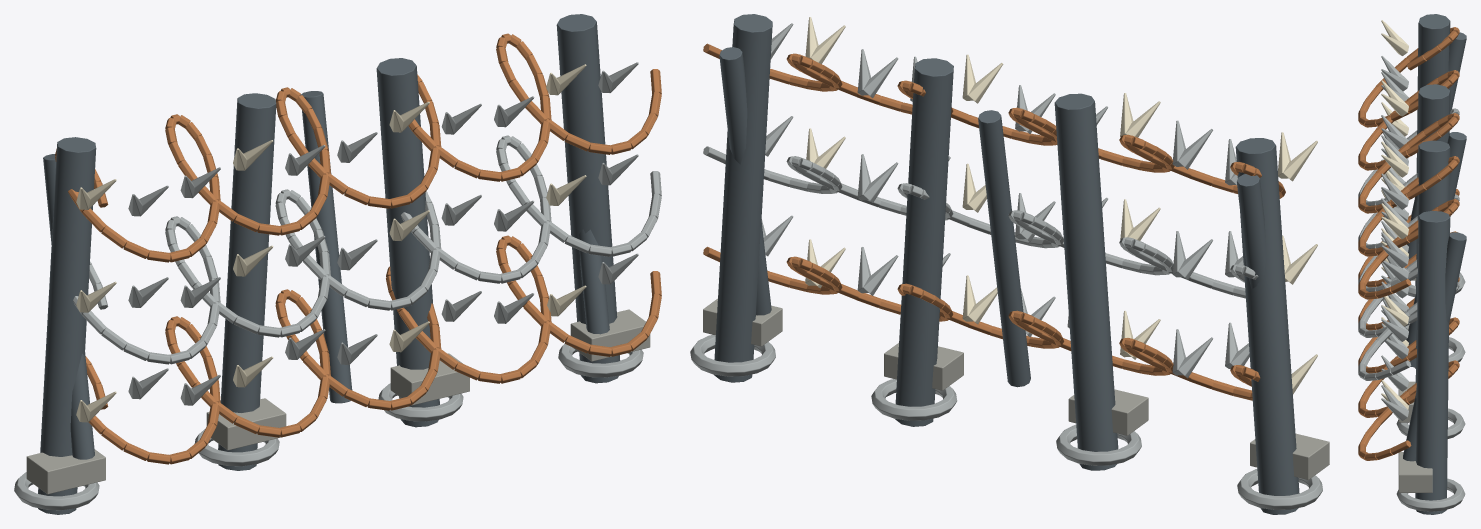
The model's file is 17_Razor_Wire_Barricade.fbx.
3 renders of one model, left to right at view 1: azimuth 30°, elevation 25°; view 2: azimuth 150°, elevation 25°; view 3: azimuth 270°, elevation 25°, orthographic. The views are drawn at different scales.
Visible parts, largest first — view 1: 17_Razor_Wire_Barricade; view 2: 17_Razor_Wire_Barricade; view 3: 17_Razor_Wire_Barricade.
Part boxes in pixels (left/top/right/bottom): 17_Razor_Wire_Barricade: left=14, top=14, right=661, bottom=514; 17_Razor_Wire_Barricade: left=690, top=14, right=1329, bottom=514; 17_Razor_Wire_Barricade: left=1358, top=14, right=1466, bottom=514.
Size of the model in its own units: 3.4 by 1.86 by 0.6397.
